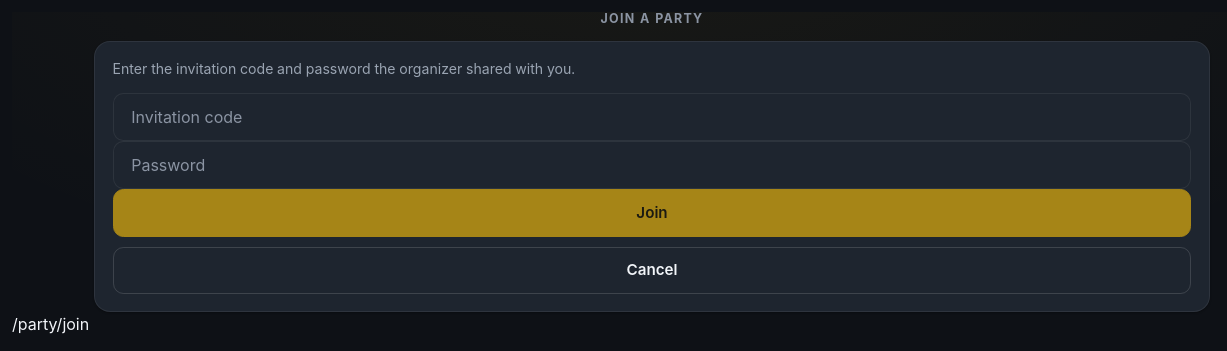
Test: shows a loading label while the join is in flight
Step 1. Type "K7X9-QP2M" into the field with placeholder "Invitation code" → (652, 118), box [113,94,1191,142]
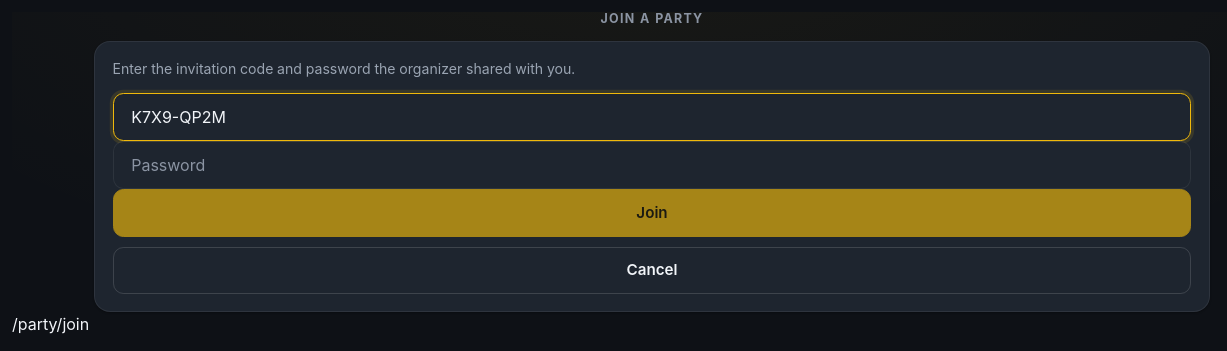
Step 2. Type "invite-pass" into the password field with placeholder "Password" → (652, 166), box [113,142,1191,190]
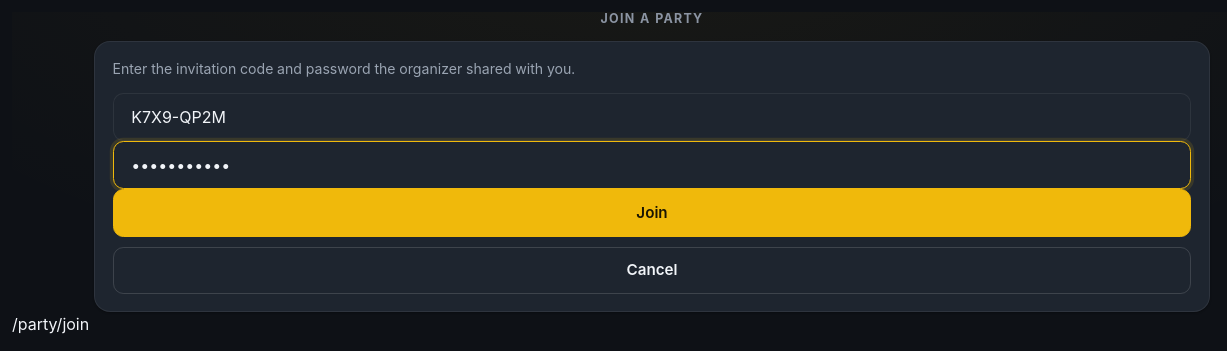
Step 3. Click the button "Join" → click(652, 213), box [113,190,1191,237]
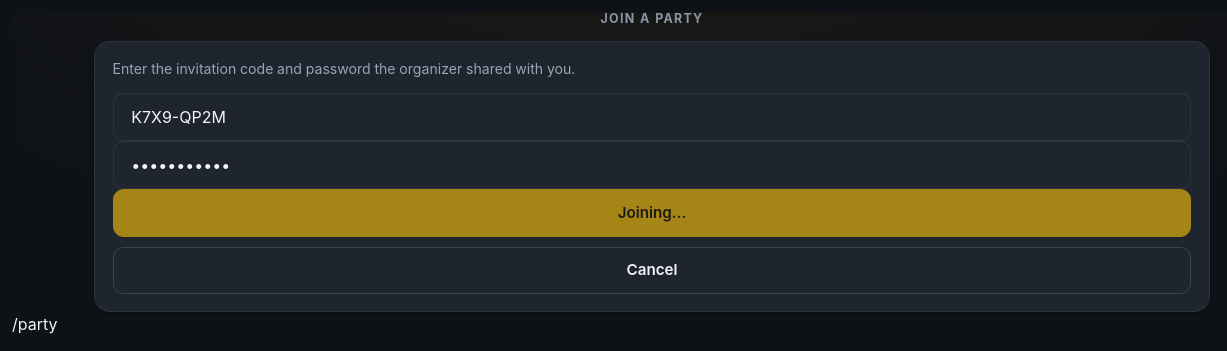
Check: the button "Joining…" is disabled, box [113,190,1191,237]
